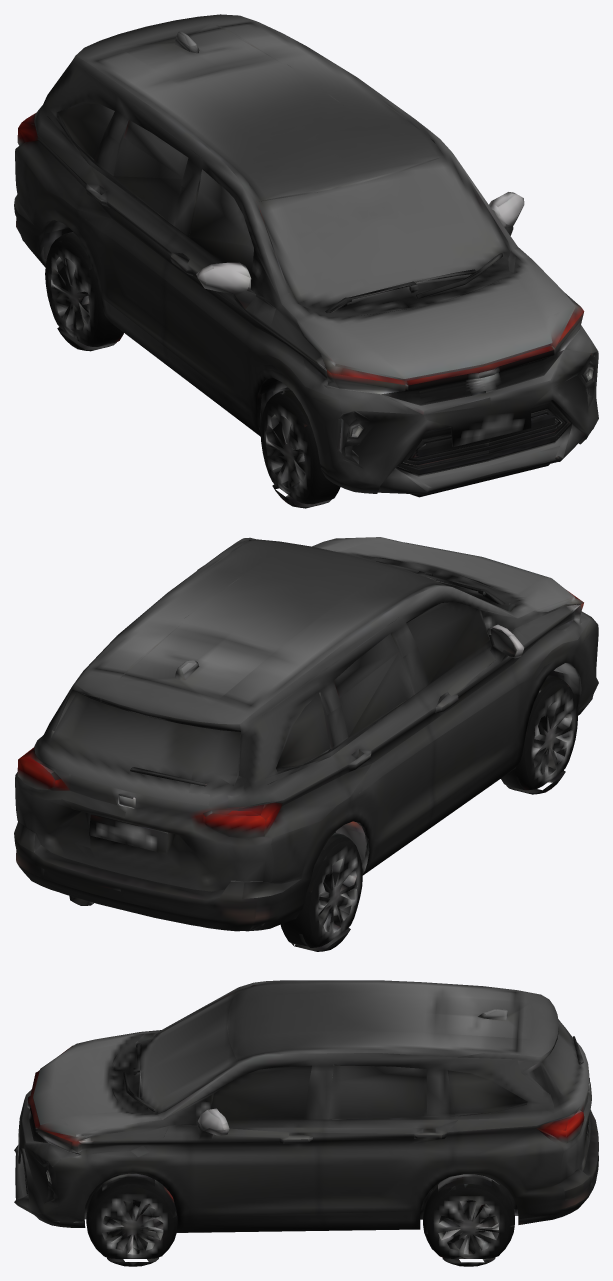
File: xenia.glb
3 renders of one model, top to bottom at view 1: azimuth 30°, elevation 25°; view 2: azimuth 150°, elevation 25°; view 3: azimuth 270°, elevation 25°, orthographic. The views are drawn at different scales.
Parts seen in each view (by area): view 1: tripo_node_c2b8ce2c; view 2: tripo_node_c2b8ce2c; view 3: tripo_node_c2b8ce2c.
Boxes of the visible parts, bbox=[...] form: tripo_node_c2b8ce2c: bbox=[14, 14, 598, 508]; tripo_node_c2b8ce2c: bbox=[14, 537, 598, 951]; tripo_node_c2b8ce2c: bbox=[14, 980, 598, 1266].
Bounding box in the file's own units: 47.73 × 37.49 × 94.85.
Materials: 1 (1 with a texture image).
